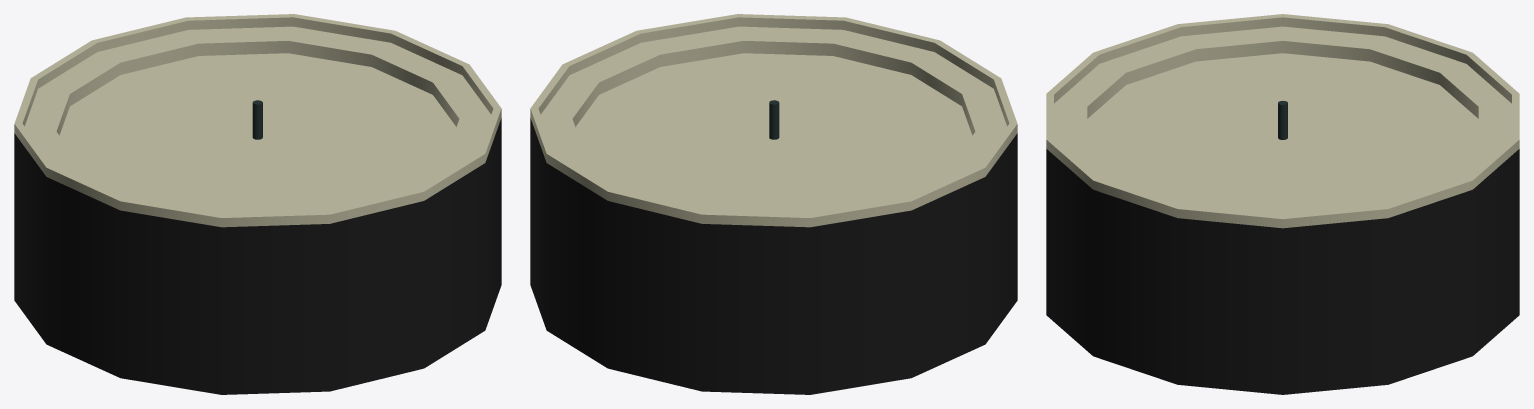
Rendered from SmallCandle.fbx.
3 renders of one model, left to right at view 1: azimuth 30°, elevation 25°; view 2: azimuth 150°, elevation 25°; view 3: azimuth 270°, elevation 25°, orthographic.
Parts seen in each view (by area): view 1: SmallCandle; view 2: SmallCandle; view 3: SmallCandle.
Part boxes in pixels (x1,y1,x2,y2): SmallCandle: (14, 14, 501, 394); SmallCandle: (530, 14, 1017, 394); SmallCandle: (1046, 14, 1519, 394).
Bounding box in the file's own units: 5.78 × 2.49 × 5.64.
